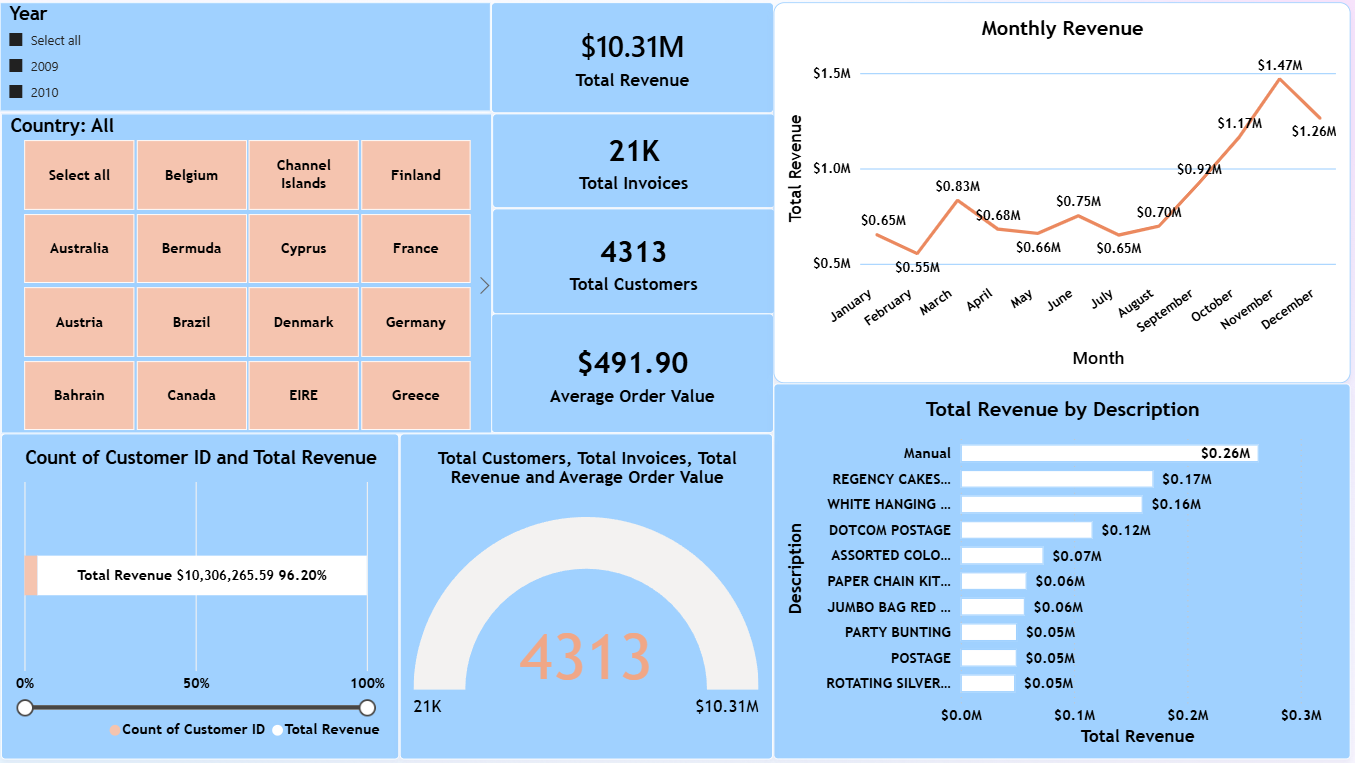

Layout of this report page (visuals, bound fields, positions):
{"tool":"powerbi","page":{"name":"Page 1","canvas":[1280,720],"ordinal":0},"visuals":[{"type":"card","fields":{"Values":["Sales.Total Revenue"]},"box":[469.4,6.4,263.5,102.9],"z":0},{"type":"card","fields":{"Values":["Sales.Total Invoices"]},"box":[470.8,109.3,263.5,87.8],"z":1000},{"type":"card","fields":{"Values":["Sales.Total Customers"]},"box":[470.8,197.1,263.5,98.8],"z":2000},{"type":"card","fields":{"Values":["Sales.Average Order Value"]},"box":[469.4,295.9,263.5,111.1],"z":3000},{"type":"lineChart","title":"Monthly Revenue","fields":{"Category":["Sales.InvoiceDate.Variation.Date Hierarchy.Month"],"Y":["Sales.Total Revenue"]},"box":[732.9,6.4,536.5,354],"z":4000},{"type":"clusteredBarChart","fields":{"Category":["Sales.Description"],"Y":["Sales.Total Revenue"]},"box":[732.9,360.4,536.5,349.9],"z":5000},{"type":"hundredPercentStackedBarChart","fields":{"Y":["CountNonNull(Sales.Customer ID)","Sales.Total Revenue"]},"box":[13.8,407.1,370.5,303.3],"z":6000},{"type":"slicer","fields":{"Values":["Sales.InvoiceDate.Variation.Date Hierarchy.Year"]},"box":[12.5,6.4,456.9,101.5],"z":7000},{"type":"slicer","fields":{"Values":["Sales.Country"]},"box":[13.8,109.3,456.9,297.8],"z":8000},{"type":"gauge","fields":{"Y":["Sales.Total Customers"],"MinValue":["Sales.Total Invoices"],"MaxValue":["Sales.Total Revenue"],"TargetValue":["Sales.Average Order Value"]},"box":[384.3,407.1,347.2,303.3],"z":9000}]}

Visuals, with their boxes in screenshot pixels (x1, y1, x2, y2), scaled from the page's 1280x720 canvas onto the 1355x763 screenshot:
card - Sales.Total Revenue: bbox(497, 7, 776, 116)
card - Sales.Total Invoices: bbox(498, 116, 777, 209)
card - Sales.Total Customers: bbox(498, 209, 777, 314)
card - Sales.Average Order Value: bbox(497, 314, 776, 431)
"Monthly Revenue" lineChart: bbox(776, 7, 1344, 382)
clusteredBarChart - Sales.Description x Sales.Total Revenue: bbox(776, 382, 1344, 753)
hundredPercentStackedBarChart - CountNonNull(Sales.Customer ID) x Sales.Total Revenue: bbox(15, 431, 407, 753)
slicer - Sales.InvoiceDate.Variation.Date Hierarchy.Year: bbox(13, 7, 497, 114)
slicer - Sales.Country: bbox(15, 116, 498, 431)
gauge - Sales.Total Customers x Sales.Total Invoices: bbox(407, 431, 774, 753)
